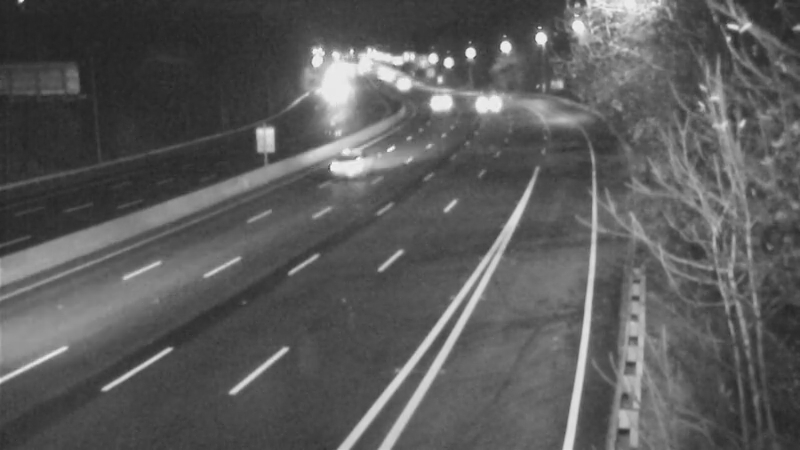vehicle: (311, 125, 391, 205), (372, 58, 422, 108), (413, 73, 463, 123), (456, 80, 506, 130), (309, 67, 359, 117)
